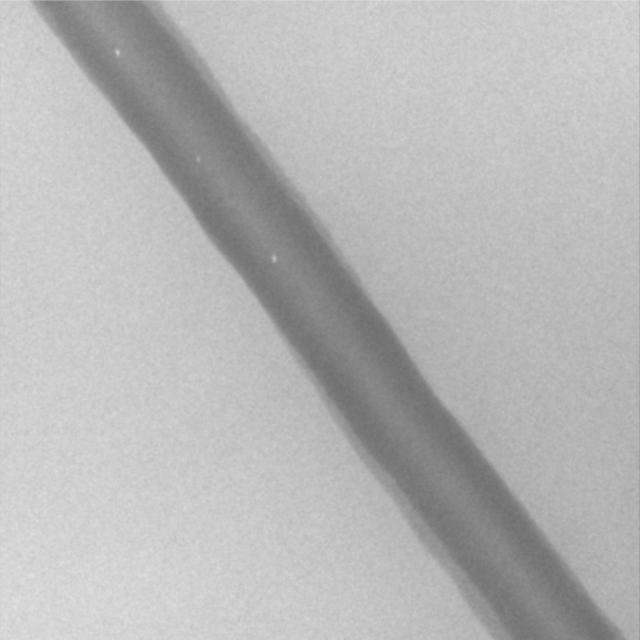air hole: (113, 47, 121, 59), (194, 155, 201, 165), (270, 255, 277, 264)
